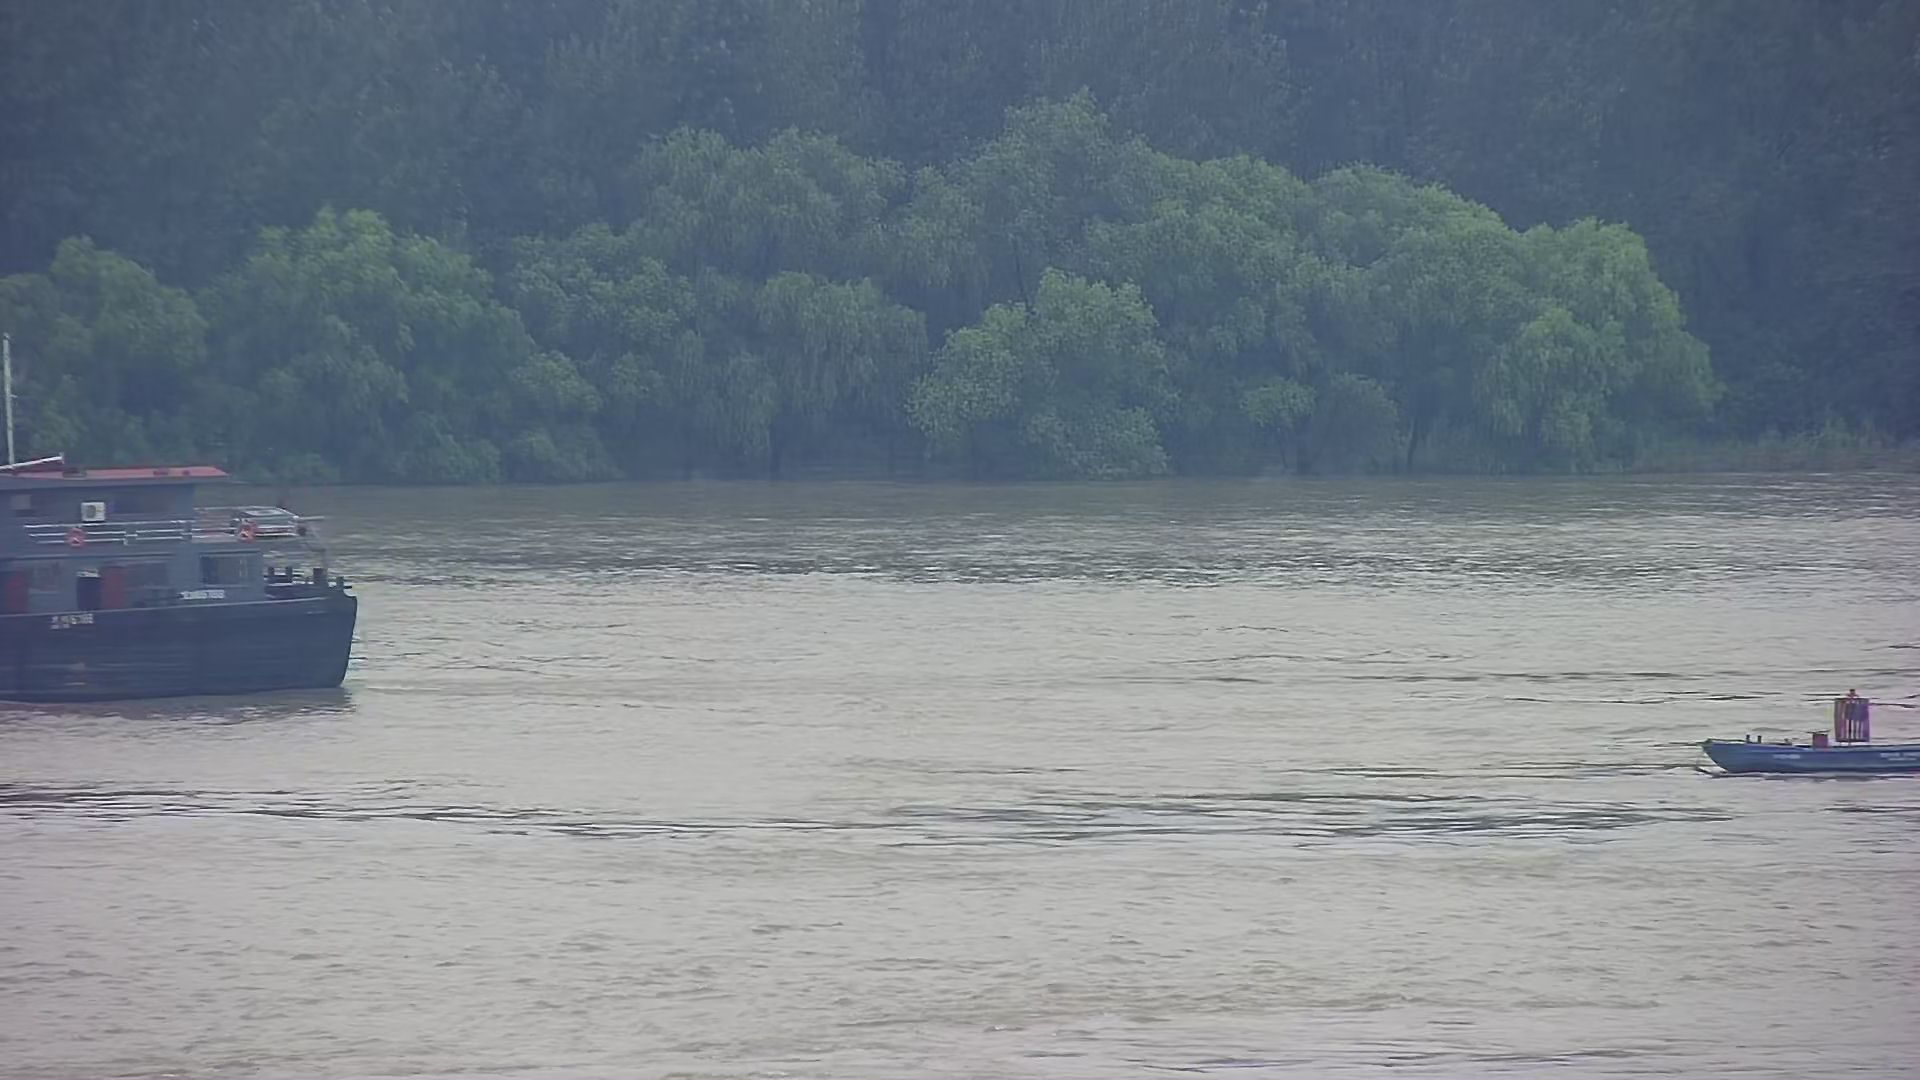boat: (1695, 676, 1920, 786)
ship: (1, 433, 367, 708)
